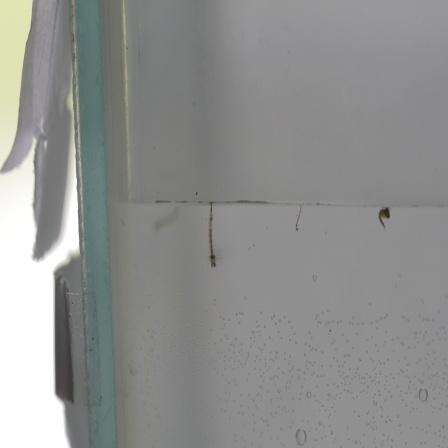Jentik-Nyamuk: (203, 200, 221, 272), (291, 202, 310, 236), (375, 204, 394, 230)
